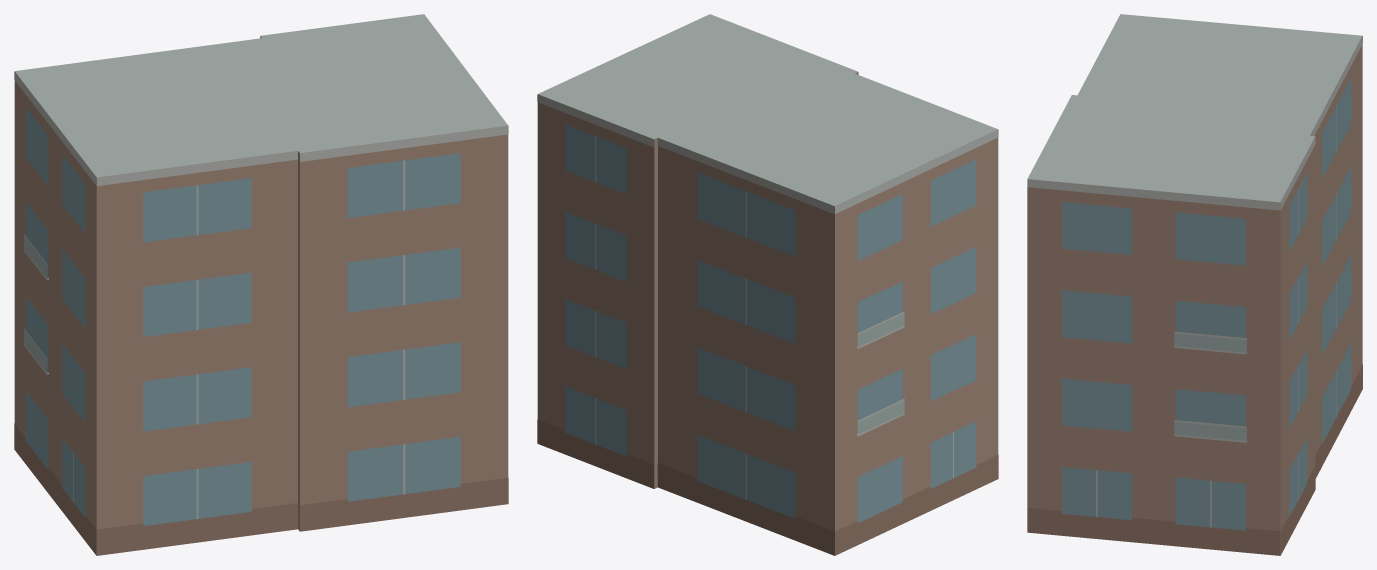
File: survey-upis-32535931.glb
The picture shows the model from 3 angles, left to right: view 1: azimuth 30°, elevation 25°; view 2: azimuth 150°, elevation 25°; view 3: azimuth 270°, elevation 25°; orthographic projection. The views are drawn at different scales.
Parts seen in each view (by area): view 1: survey-upis-32535931.tmp; view 2: survey-upis-32535931.tmp; view 3: survey-upis-32535931.tmp.
Part boxes in pixels (x1,y1,x2,y2): survey-upis-32535931.tmp: [14, 14, 508, 555]; survey-upis-32535931.tmp: [537, 14, 998, 555]; survey-upis-32535931.tmp: [1027, 14, 1362, 555].
Bounding box in the file's own units: 12.12 × 10.6 × 9.12.
